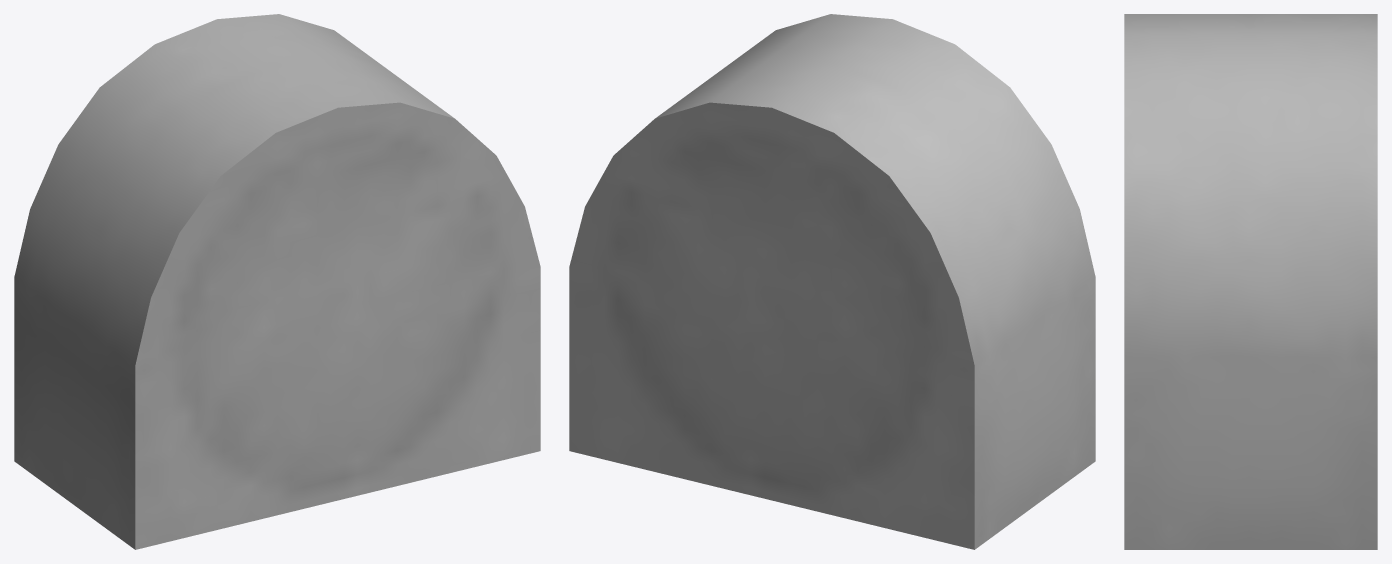
File: SM_CabelSupport1.fbx
3 renders of one model, left to right at view 1: azimuth 30°, elevation 25°; view 2: azimuth 150°, elevation 25°; view 3: azimuth 270°, elevation 25°, orthographic. The views are drawn at different scales.
Parts seen in each view (by area): view 1: SM_CabelSupport1_LOD0; view 2: SM_CabelSupport1_LOD0; view 3: SM_CabelSupport1_LOD0.
Part boxes in pixels (left/top/right/bottom): SM_CabelSupport1_LOD0: left=14, top=14, right=540, bottom=549; SM_CabelSupport1_LOD0: left=569, top=14, right=1095, bottom=549; SM_CabelSupport1_LOD0: left=1124, top=14, right=1377, bottom=549.
Size of the model in its own units: 5.94 by 3.07 by 5.5.
